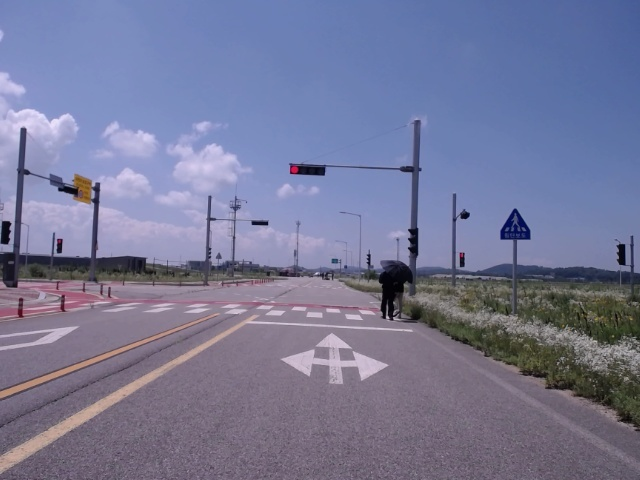red_4: (289, 165, 325, 176)
